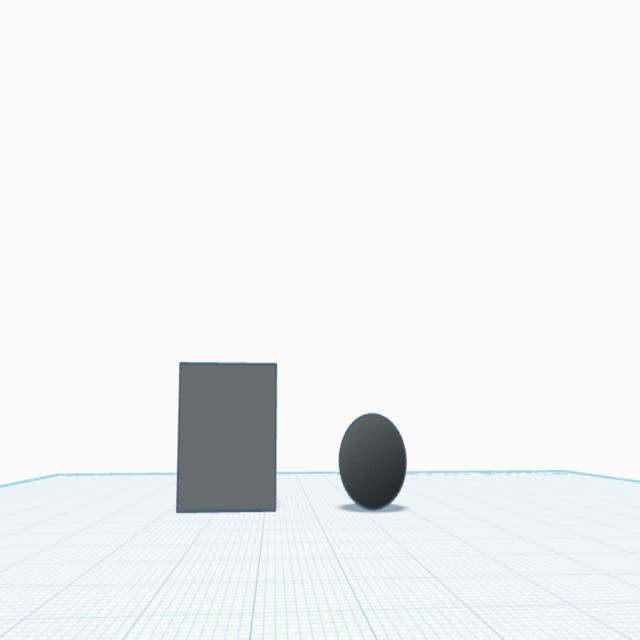cube: (174, 353, 278, 516)
sphere: (336, 410, 408, 516)
